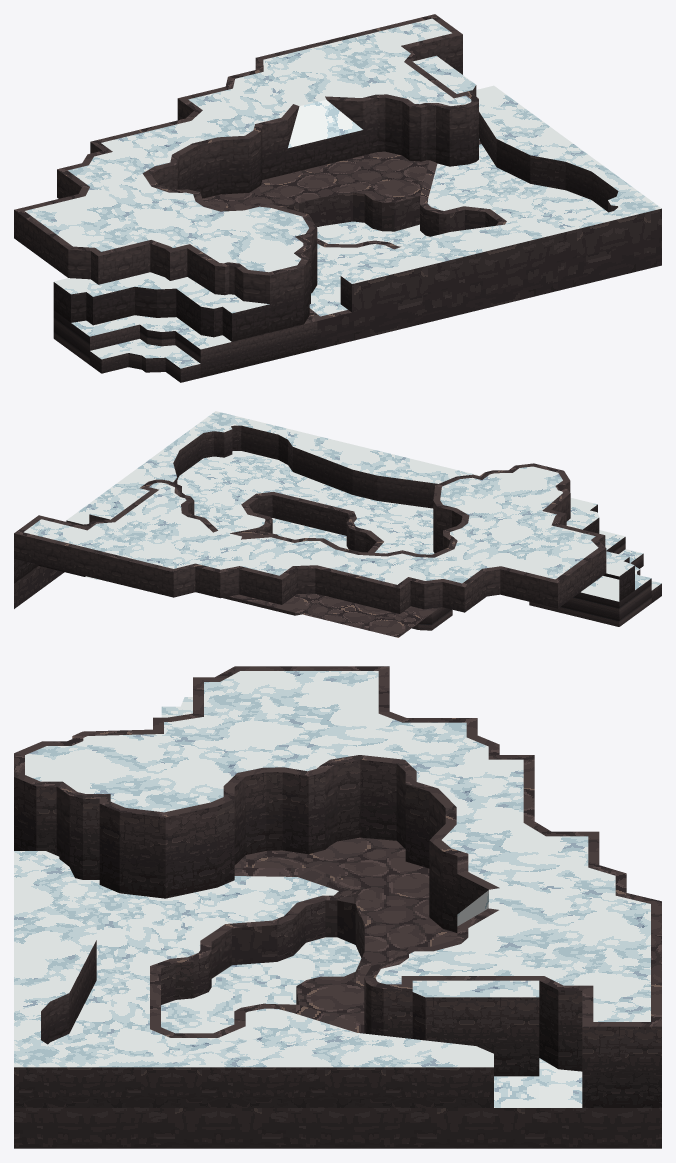
File: map_mesh_titans_respite_1.glb
3 renders of one model, top to bottom at view 1: azimuth 30°, elevation 25°; view 2: azimuth 150°, elevation 25°; view 3: azimuth 270°, elevation 25°, orthographic. The views are drawn at different scales.
Parts seen in each view (by area): view 1: Plane.078, Plane.076, Plane.081, Plane.079, Plane.080; view 2: Plane.078, Plane.076, Plane.081, Plane.079, Plane.080; view 3: Plane.078, Plane.076, Plane.081.
Boxes of the visible parts, x1,y1,x2,y2 form: Plane.078: (14, 14, 478, 341); Plane.076: (202, 139, 661, 349); Plane.081: (340, 85, 661, 312); Plane.079: (53, 310, 317, 377); Plane.080: (90, 339, 200, 382); Plane.078: (14, 463, 634, 613); Plane.076: (14, 451, 439, 637); Plane.081: (66, 411, 479, 526); Plane.079: (223, 530, 651, 630); Plane.080: (619, 549, 661, 602); Plane.078: (14, 666, 661, 1107); Plane.076: (14, 837, 661, 1148); Plane.081: (14, 851, 493, 1107).
Size of the model in its own units: 39.05 by 6 by 28.88.
3 materials, 3 textured.
